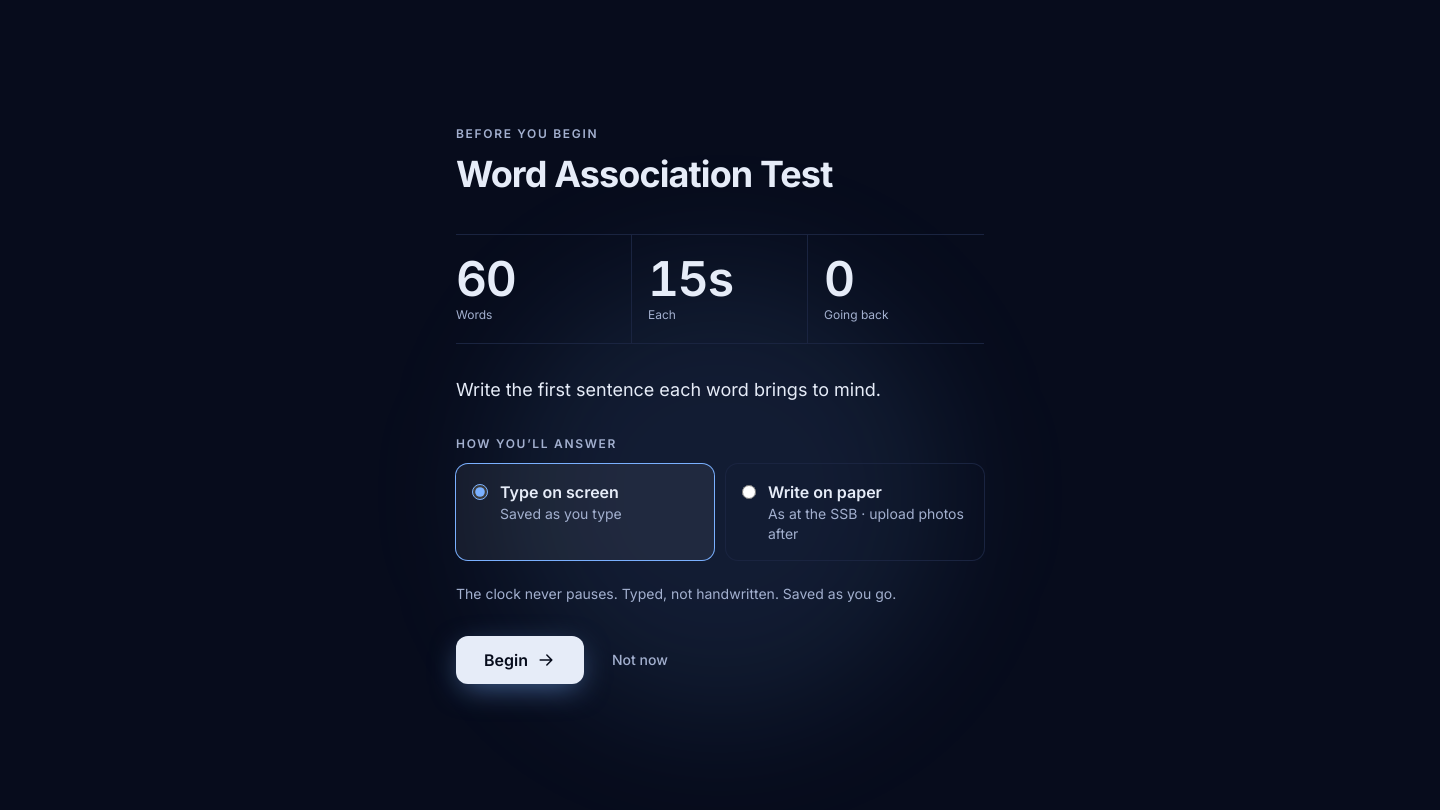
Test case: forced sequence › offers no way back
The width and height of the screenshot is (1440, 810).
What coordinates should you click on to do the following:
click the button "Begin"
I would click on:
 (520, 660)
Its box is [456,636,584,684].
Wait 15000 ms
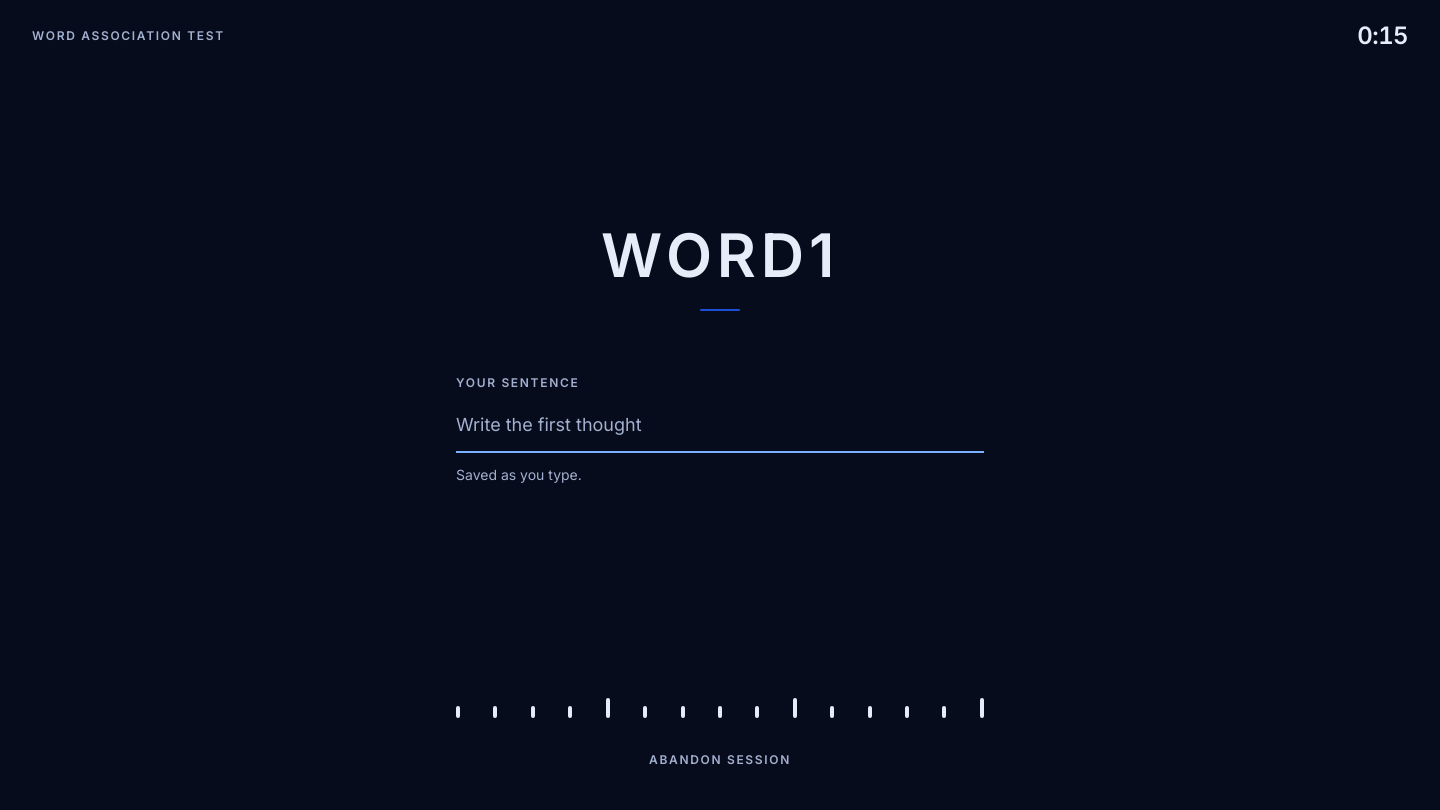
Result: the text "Going back" is gone
